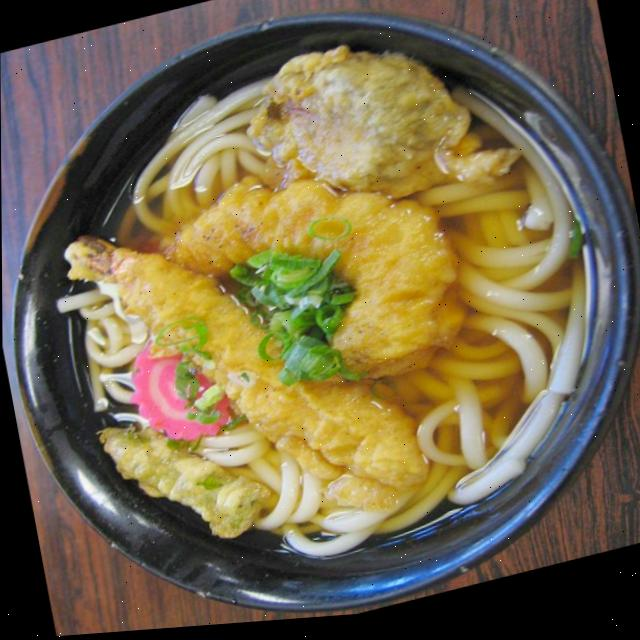面条主食: (28, 0, 631, 611)
